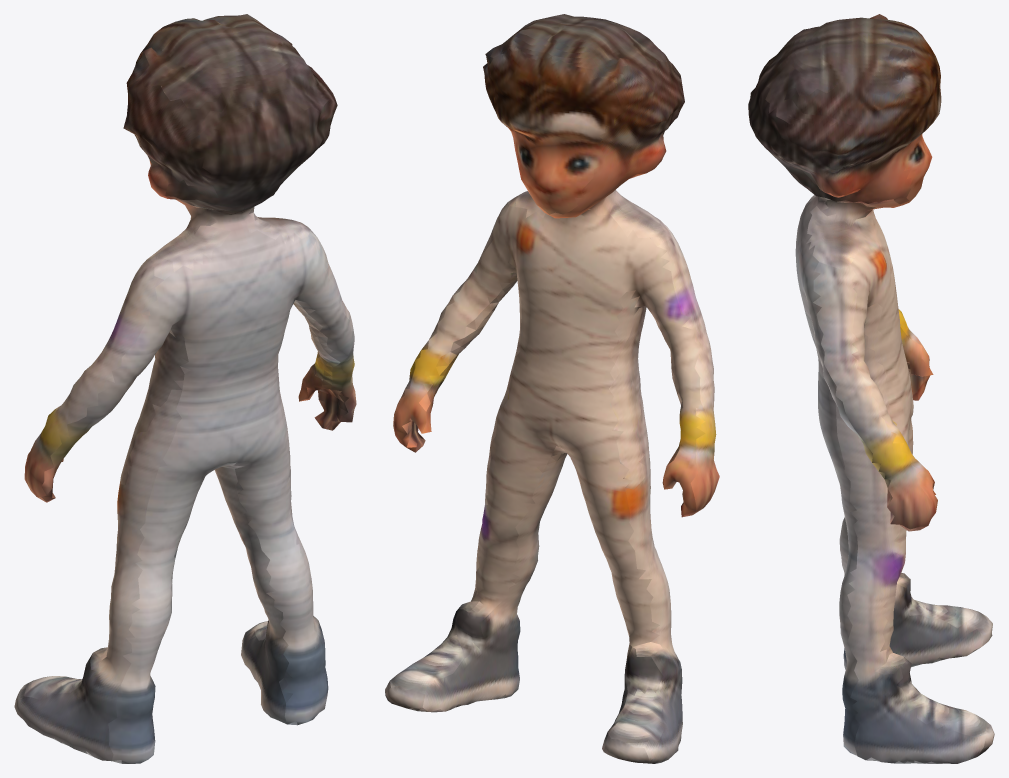
The model's file is Muscle Mummy.glb.
The picture shows the model from 3 angles, left to right: view 1: azimuth 30°, elevation 25°; view 2: azimuth 150°, elevation 25°; view 3: azimuth 270°, elevation 25°; orthographic projection. The views are drawn at different scales.
Visible parts, largest first — view 1: world; view 2: world; view 3: world.
Boxes of the visible parts, x1,y1,x2,y2 form: world: (14, 14, 356, 763); world: (385, 14, 719, 763); world: (748, 14, 994, 763).
Size of the model in its own units: 0.4496 by 0.9466 by 0.3086.
Materials: 1 (1 with a texture image).
